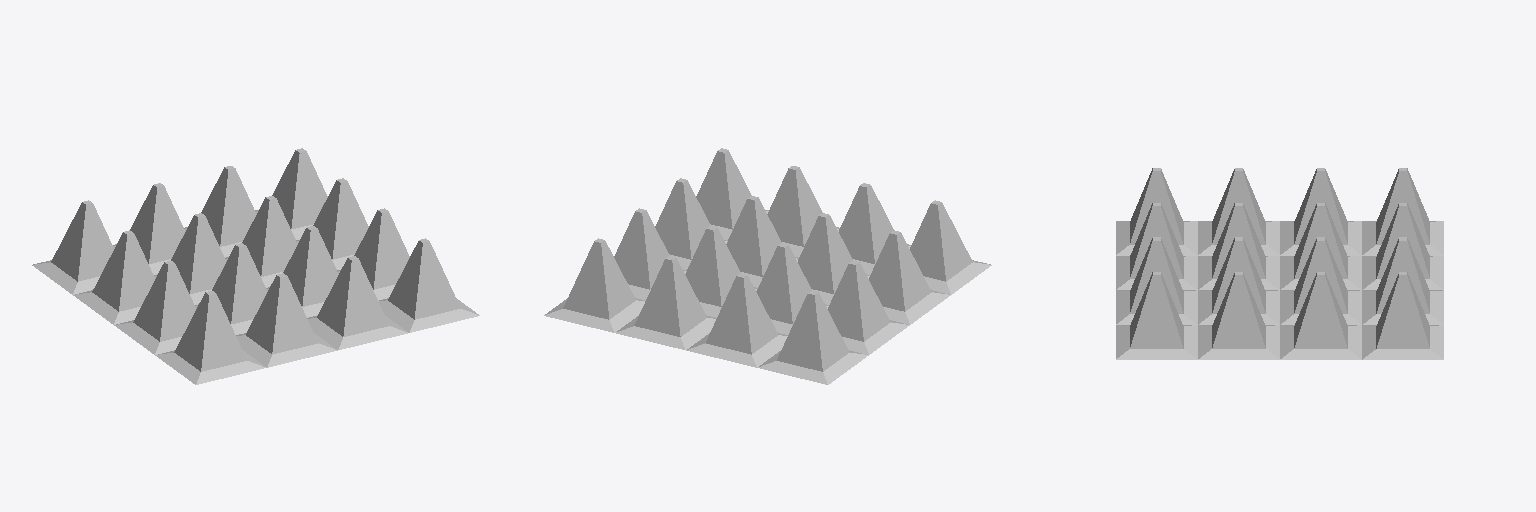
The model's file is SPIKES.obj.
3 views of the same model, side by side, from view 1: azimuth 30°, elevation 25°; view 2: azimuth 150°, elevation 25°; view 3: azimuth 270°, elevation 25° (orthographic).
Visible parts, largest first — view 1: Spike; view 2: Spike; view 3: Spike.
Boxes of the visible parts, <box> form: Spike: <box>32,148,479,384</box>; Spike: <box>544,148,991,384</box>; Spike: <box>1116,168,1443,359</box>.
Size of the model in its own units: 2 by 0.4614 by 2.